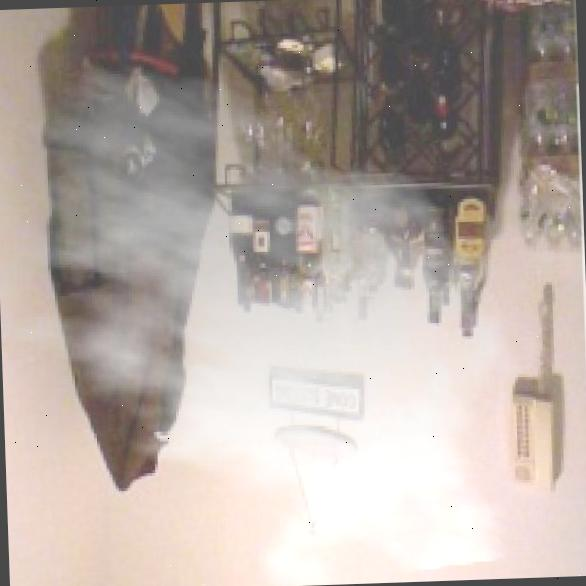smoke: (0, 48, 548, 586)
